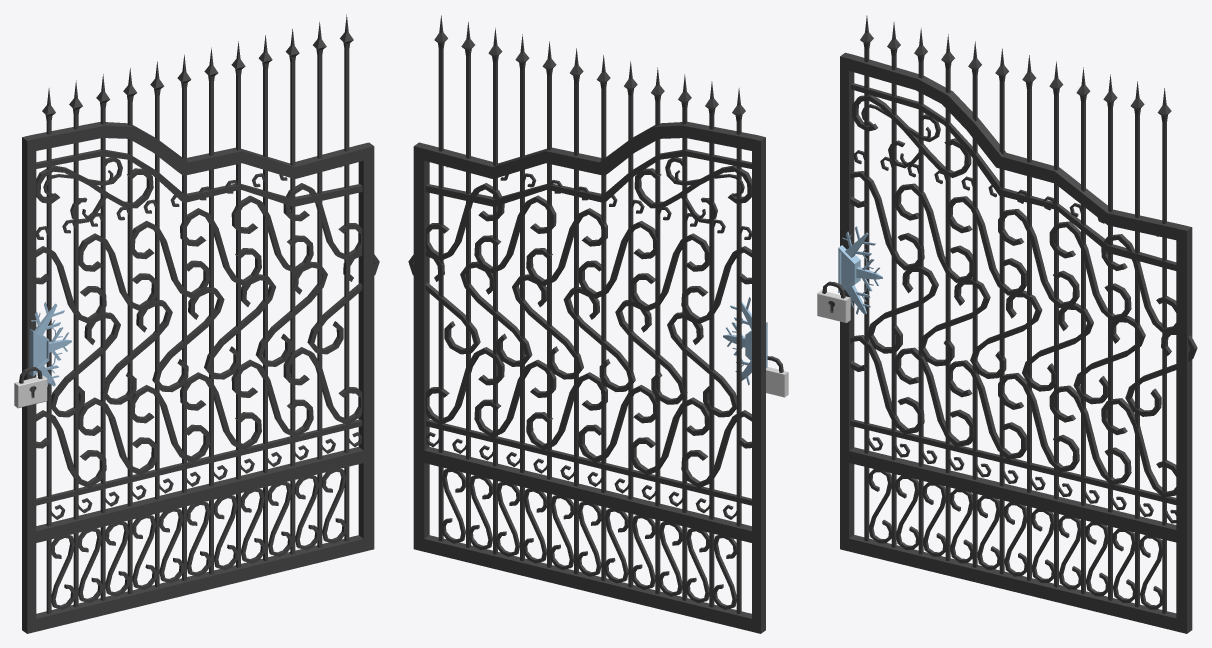
Rendered from Gate.fbx.
The picture shows the model from 3 angles, left to right: view 1: azimuth 30°, elevation 25°; view 2: azimuth 150°, elevation 25°; view 3: azimuth 330°, elevation 25°; orthographic projection.
Parts seen in each view (by area): view 1: Cube, Cube.001, Cube.002, Cube.005, Cube.004, Cube.006, Cube.007, Cube.003, Cube.008; view 2: Cube, Cube.001, Cube.002, Cube.005, Cube.004, Cube.006, Cube.007, Cube.003, Cube.008; view 3: Cube, Cube.001, Cube.004, Cube.006, Cube.005, Cube.002, Cube.007, Cube.003, Cube.008.
Boxes of the visible parts, left/top/right/bottom form: Cube: left=22, top=122, right=374, bottom=633; Cube.001: left=36, top=14, right=361, bottom=614; Cube.002: left=51, top=468, right=346, bottom=609; Cube.005: left=51, top=250, right=379, bottom=417; Cube.004: left=36, top=347, right=362, bottom=487; Cube.006: left=36, top=183, right=362, bottom=323; Cube.007: left=36, top=157, right=153, bottom=223; Cube.003: left=29, top=302, right=71, bottom=386; Cube.008: left=14, top=367, right=47, bottom=408; Cube: left=413, top=121, right=765, bottom=633; Cube.001: left=426, top=15, right=751, bottom=614; Cube.002: left=441, top=468, right=736, bottom=609; Cube.005: left=408, top=250, right=736, bottom=417; Cube.004: left=425, top=347, right=751, bottom=487; Cube.006: left=425, top=183, right=751, bottom=323; Cube.007: left=634, top=157, right=751, bottom=223; Cube.003: left=723, top=297, right=767, bottom=385; Cube.008: left=766, top=356, right=788, bottom=397; Cube: left=840, top=52, right=1192, bottom=633; Cube.001: left=853, top=15, right=1176, bottom=613; Cube.004: left=850, top=335, right=1176, bottom=497; Cube.006: left=850, top=171, right=1176, bottom=333; Cube.005: left=867, top=267, right=1197, bottom=416; Cube.002: left=868, top=469, right=1162, bottom=609; Cube.007: left=852, top=95, right=971, bottom=177; Cube.003: left=838, top=226, right=882, bottom=314; Cube.008: left=817, top=281, right=850, bottom=322.
Size of the model in its own units: 307 by 429 by 17.52.
